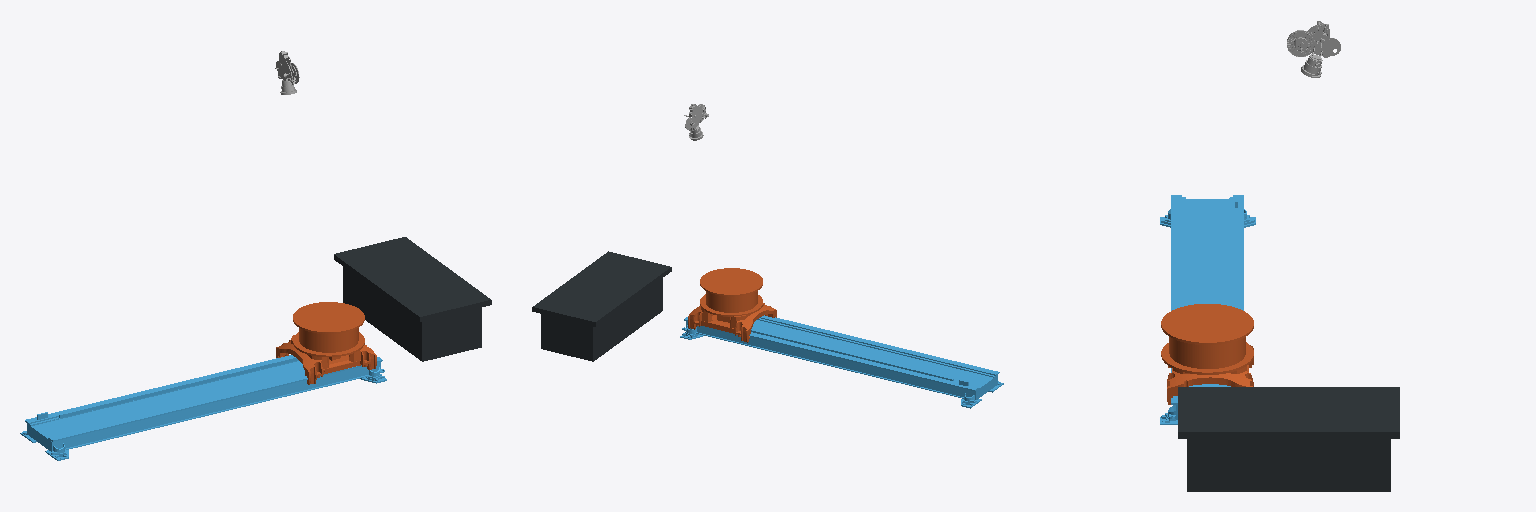
URDF robot description (kr210_atl):
<?xml version="1.0" ?>
<!-- =================================================================================== -->
<!-- |    This document was autogenerated by xacro from kr210_atl.xacro                | -->
<!-- |    EDITING THIS FILE BY HAND IS NOT RECOMMENDED                                 | -->
<!-- =================================================================================== -->
<robot name="kr210_atl" xmlns:xacro="http://wiki.ros.org/xacro">
  <!-- colours based on RAL values given in "FAQ - Colours of robot and robot
       controller", version "KUKA.Tifs | 2010-01-21 |YM| DefaultColorsRobotAndController.doc",
       downloaded 2015-07-18 from
       http://www.kuka.be/main/cservice/faqs/hardware/DefaultColorsRobotAndController.pdf

       all RAL colours converted using http://www.visual-graphics.de/en/customer-care/ral-colours
  -->
  <!-- colours based on RAL values given in "FAQ - Colours of robot and robot
       controller", version "KUKA.Tifs | 2010-01-21 |YM| DefaultColorsRobotAndController.doc",
       downloaded 2015-07-18 from
       http://www.kuka.be/main/cservice/faqs/hardware/DefaultColorsRobotAndController.pdf

       all RAL colours converted using http://www.visual-graphics.de/en/customer-care/ral-colours
  -->
  <!-- Defining variables -->
  <!--0.2-->
  <!-- base link of complete linear track -->
  <link name="kl2000_base_link"/>
  <link name="kl2000_track">
    <visual>
      <origin rpy="0 0 0" xyz="0 0 0"/>
      <geometry>
        <mesh filename="package://kr210_pen_support/meshes/visual/kl2000_track.dae"/>
      </geometry>
    </visual>
    <collision>
      <origin rpy="0 0 0" xyz="0 0 0"/>
      <geometry>
        <mesh filename="package://kr210_pen_support/meshes/collision/kl2000_track_collision.stl"/>
      </geometry>
    </collision>
  </link>
  <link name="kl2000_mobile_base">
    <visual>
      <origin rpy="0 0 0" xyz="0 0 0"/>
      <geometry>
        <mesh filename="package://kr210_pen_support/meshes/visual/kl2000_mobile_base.dae"/>
      </geometry>
    </visual>
    <collision>
      <origin rpy="0 0 0" xyz="0 0 0"/>
      <geometry>
        <mesh filename="package://kr210_pen_support/meshes/collision/kl2000_mobile_base_collision.stl"/>
      </geometry>
    </collision>
  </link>
  <!-- JOINT DEFINITIONS -->
  <joint name="kl2000_base_link_joint" type="fixed">
    <origin rpy="0 0 3.14159265359" xyz="-4.962 0 0.557"/>
    <parent link="kl2000_base_link"/>
    <child link="kl2000_track"/>
  </joint>
  <joint name="kl2000_joint_e1" type="fixed">
    <!-- temporary x translation as we're not using / controlling the track -->
    <origin rpy="0 0 0" xyz="-4.295 0 0"/>
    <parent link="kl2000_track"/>
    <child link="kl2000_mobile_base"/>
    <axis xyz="1 0 0"/>
    <limit effort="0" lower="-4.3" upper="0" velocity="1.96"/>
  </joint>
  <link name="console_base_link">
    <visual>
      <origin rpy="0 0 0" xyz="0 0 0"/>
      <geometry>
        <mesh filename="package://kr210_pen_support/meshes/visual/kl2000_console_h400.dae"/>
      </geometry>
    </visual>
    <collision>
      <origin rpy="0 0 0" xyz="0 0 0"/>
      <geometry>
        <mesh filename="package://kr210_pen_support/meshes/collision/kl2000_console_h400_collision.stl"/>
      </geometry>
    </collision>
  </link>
  <link name="kr210_base_link">
    <visual>
      <origin rpy="0 0 0" xyz="0 0 0"/>
      <geometry>
        <mesh filename="package://kuka_kr210_support/meshes/kr210r2700extra/visual/base_link.dae"/>
      </geometry>
    </visual>
    <collision>
      <origin rpy="0 0 0" xyz="0 0 0"/>
      <geometry>
        <mesh filename="package://kuka_kr210_support/meshes/kr210r2700extra/collision/base_link.stl"/>
      </geometry>
    </collision>
  </link>
  <link name="kr210_link_1">
    <visual>
      <origin rpy="0 0 0" xyz="0 0 0"/>
      <geometry>
        <mesh filename="package://kuka_kr210_support/meshes/kr210r2700extra/visual/link_1.dae"/>
      </geometry>
    </visual>
    <collision>
      <origin rpy="0 0 0" xyz="0 0 0"/>
      <geometry>
        <mesh filename="package://kuka_kr210_support/meshes/kr210r2700extra/collision/link_1.stl"/>
      </geometry>
    </collision>
  </link>
  <link name="kr210_link_2">
    <visual>
      <origin rpy="0 0 0" xyz="0 0 0"/>
      <geometry>
        <mesh filename="package://kuka_kr210_support/meshes/kr210r2700extra/visual/link_2.dae"/>
      </geometry>
    </visual>
    <collision>
      <origin rpy="0 0 0" xyz="0 0 0"/>
      <geometry>
        <mesh filename="package://kuka_kr210_support/meshes/kr210r2700extra/collision/link_2.stl"/>
      </geometry>
    </collision>
  </link>
  <link name="kr210_link_3">
    <visual>
      <origin rpy="0 0 0" xyz="0 0 0"/>
      <geometry>
        <mesh filename="package://kuka_kr210_support/meshes/kr210r2700extra/visual/link_3.dae"/>
      </geometry>
    </visual>
    <collision>
      <origin rpy="0 0 0" xyz="0 0 0"/>
      <geometry>
        <mesh filename="package://kuka_kr210_support/meshes/kr210r2700extra/collision/link_3.stl"/>
      </geometry>
    </collision>
  </link>
  <link name="kr210_link_4">
    <visual>
      <origin rpy="3.14159265359 0 0" xyz="0 0 0"/>
      <geometry>
        <mesh filename="package://kuka_kr210_support/meshes/kr210r2700extra/visual/link_4.dae"/>
      </geometry>
    </visual>
    <collision>
      <origin rpy="3.14159265359 0 0" xyz="0 0 0"/>
      <geometry>
        <mesh filename="package://kuka_kr210_support/meshes/kr210r2700extra/collision/link_4.stl"/>
      </geometry>
    </collision>
  </link>
  <link name="kr210_link_5">
    <visual>
      <origin rpy="0 0 0" xyz="0 0 0"/>
      <geometry>
        <mesh filename="package://kuka_kr210_support/meshes/kr210r2700extra/visual/link_5.dae"/>
      </geometry>
    </visual>
    <collision>
      <origin rpy="0 0 0" xyz="0 0 0"/>
      <geometry>
        <mesh filename="package://kuka_kr210_support/meshes/kr210r2700extra/collision/link_5.stl"/>
      </geometry>
    </collision>
  </link>
  <link name="kr210_link_6">
    <visual>
      <origin rpy="0 0 0" xyz="0 0 0"/>
      <geometry>
        <mesh filename="package://kuka_kr210_support/meshes/kr210r2700extra/visual/link_6.dae"/>
      </geometry>
    </visual>
    <collision>
      <origin rpy="0 0 0" xyz="0 0 0"/>
      <geometry>
        <mesh filename="package://kuka_kr210_support/meshes/kr210r2700extra/collision/link_6.stl"/>
      </geometry>
    </collision>
  </link>
  <!-- This frame corresponds to the $FLANGE coordinate system in KUKA KRC controllers. -->
  <link name="kr210_tool0"/>
  <joint name="kr210_joint_a1" type="revolute">
    <origin rpy="0 0 0" xyz="0 0 0.675"/>
    <parent link="kr210_base_link"/>
    <child link="kr210_link_1"/>
    <axis xyz="0 0 -1"/>
    <limit effort="0" lower="-3.22885911619" upper="3.22885911619" velocity="2.14675497995"/>
  </joint>
  <joint name="kr210_joint_a2" type="revolute">
    <origin rpy="0 0 0" xyz="0.350 0 0"/>
    <parent link="kr210_link_1"/>
    <child link="kr210_link_2"/>
    <axis xyz="0 1 0"/>
    <limit effort="0" lower="-2.44346095279" upper="-0.0872664625997" velocity="2.00712863979"/>
  </joint>
  <joint name="kr210_joint_a3" type="revolute">
    <origin rpy="0 0 0" xyz="1.150 0 0"/>
    <parent link="kr210_link_2"/>
    <child link="kr210_link_3"/>
    <axis xyz="0 1 0"/>
    <limit effort="0" lower="-2.09439510239" upper="2.70526034059" velocity="1.95476876223"/>
  </joint>
  <joint name="kr210_joint_a4" type="revolute">
    <origin rpy="0 0 0" xyz="0 0 -0.041"/>
    <parent link="kr210_link_3"/>
    <child link="kr210_link_4"/>
    <axis xyz="-1 0 0"/>
    <limit effort="0" lower="-6.10865238198" upper="6.10865238198" velocity="3.12413936107"/>
  </joint>
  <joint name="kr210_joint_a5" type="revolute">
    <origin rpy="0 0 0" xyz="1.200 0 0"/>
    <parent link="kr210_link_4"/>
    <child link="kr210_link_5"/>
    <axis xyz="0 1 0"/>
    <limit effort="0" lower="-2.18166156499" upper="2.18166156499" velocity="3.00196631343"/>
  </joint>
  <joint name="kr210_joint_a6" type="revolute">
    <origin rpy="0 0 0" xyz="0.215 0 0"/>
    <parent link="kr210_link_5"/>
    <child link="kr210_link_6"/>
    <axis xyz="-1 0 0"/>
    <limit effort="0" lower="-6.10865238198" upper="6.10865238198" velocity="3.82227106187"/>
  </joint>
  <joint name="kr210_joint_a6-tool0" type="fixed">
    <parent link="kr210_link_6"/>
    <child link="kr210_tool0"/>
    <origin rpy="0 1.57079632679 0" xyz="0 0 0"/>
  </joint>
  <!-- ROS base_link to KUKA $ROBROOT coordinate system transform -->
  <link name="kr210_base"/>
  <joint name="kr210_base_link-base" type="fixed">
    <origin rpy="0 0 0" xyz="0 0 0"/>
    <parent link="kr210_base_link"/>
    <child link="kr210_base"/>
  </joint>
  <!-- link name="${prefix}balancer">
      <visual>
        <origin xyz="-0.092 0 0" rpy="0 0 0"/>
        <geometry>
          <mesh filename="package://kuka_kr210_support/meshes/kr210r2700extra/visual/balancer.dae"/>
        </geometry>
      </visual>
      <collision>
        <origin xyz="-0.092 0 0" rpy="0 0 0"/>
        <geometry>
          <mesh filename="package://kuka_kr210_support/meshes/kr210r2700extra/collision/balancer.stl"/>
        </geometry>
      </collision>
    </link>
    <link name="${prefix}piston">
      <visual>
        <origin xyz="0 0 0" rpy="0 0 0"/>
        <geometry>
          <mesh filename="package://kuka_kr210_support/meshes/kr210r2700extra/visual/piston.dae"/>
        </geometry>
      </visual>
      <collision>
        <origin xyz="0 0 0" rpy="0 0 0"/>
        <geometry>
          <mesh filename="package://kuka_kr210_support/meshes/kr210r2700extra/collision/piston.stl"/>
        </geometry>
      </collision>
    </link>


    <joint name="${prefix}balancer_joint" type="continuous">
      <origin xyz="-0.450 0 -0.067" rpy="0 0 0"/>
      <parent link="${prefix}link_1"/>
      <child link="${prefix}balancer"/>
      <axis xyz="0 1 0"/>
      <mimic joint="${prefix}joint_a2" multiplier="-0.22" offset="${-22 * DEG2RAD}" />
    </joint>
    <joint name="${prefix}piston_joint" type="continuous">
      <origin xyz="-0.01 0 0.2" rpy="0 0 0"/>
      <parent link="${prefix}link_2"/>
      <child link="${prefix}piston"/>
      <axis xyz="0 1 0"/>
      <mimic joint="${prefix}joint_a2" multiplier="-1.25" offset="${-22 * DEG2RAD}" />
    </joint -->
  <!-- LINK DEFINITIONS -->
  <link name="table_base_link">
    <visual>
      <origin rpy="0 0 0" xyz="0 0 0"/>
      <geometry>
        <box size="1.0 2.3 0.695"/>
      </geometry>
      <material name="">
        <color rgba="0.219607843137 0.243137254902 0.258823529412 1.0"/>
      </material>
    </visual>
    <collision>
      <origin rpy="0 0 0" xyz="0 0 0"/>
      <geometry>
        <box size="1.0 2.3 0.695"/>
      </geometry>
    </collision>
  </link>
  <!-- Geometry model table top -->
  <link name="table_table_top">
    <visual>
      <origin rpy="0 0 0" xyz="1.25 -0.0425 0.6"/>
      <geometry>
        <box size="2.5 0.085 1.2"/>
      </geometry>
      <material name="">
        <color rgba="0.219607843137 0.243137254902 0.258823529412 1.0"/>
      </material>
    </visual>
    <collision>
      <origin rpy="0 0 0" xyz="1.25 -0.0425 0.6"/>
      <geometry>
        <box size="2.5 0.085 1.2"/>
      </geometry>
    </collision>
  </link>
  <!-- CAD model table top -->
  <!-- 		<link name="${prefix}table_top">	
      <visual>
      	<origin xyz="0 0 0" rpy="0 0 0"/>
        <geometry>
          <mesh filename="package://atomic_cells/meshes/visual/forster_welding_tabletop.dae" />
        </geometry>        
      </visual>
      <collision>
        <origin xyz="0 0 0" rpy="0 0 0"/>
        <geometry>
          <mesh filename="package://atomic_cells/meshes/collision/forster_welding_tabletop_collision.stl" />
        </geometry>       
      </collision>
    </link> -->
  <!-- JOINT DEFINITIONS -->
  <joint name="table_base_link_joint" type="fixed">
    <origin rpy="1.57079632679 0 1.57079632679" xyz="-0.6 -1.25 0.4325"/>
    <parent link="table_base_link"/>
    <child link="table_table_top"/>
  </joint>
  <link name="atl_tool_base_link">
    <visual>
      <origin rpy="-3.14159265359 0 0" xyz="0 0 0.1988"/>
      <geometry>
        <mesh filename="package://kr210_eef_support/meshes/visual/atl_tool.dae" scale="0.001 0.001 0.001"/>
      </geometry>
    </visual>
    <collision>
      <origin rpy="1.57079632679 3.14159265359 0" xyz="-0.260 0.172 0.1988"/>
      <geometry>
        <mesh filename="package://kr210_eef_support/meshes/collision/atl_tool.stl" scale="0.001 0.001 0.001"/>
      </geometry>
    </collision>
    <visual>
      <origin rpy="-1.57079632679 0 0" xyz="0 0 0.1908"/>
      <geometry>
        <mesh filename="package://kr210_eef_support/meshes/visual/kuka_quickrelease.dae" scale="0.001 0.001 0.001"/>
      </geometry>
    </visual>
    <collision>
      <origin rpy="0 0 0" xyz="0 0 0"/>
      <geometry>
        <mesh filename="package://kr210_eef_support/meshes/collision/kuka_quickrelease.stl" scale="0.001 0.001 0.001"/>
      </geometry>
    </collision>
  </link>
  <link name="atl_tool_tool_tip"/>
  <joint name="atl_tool_tool_tip_to_atl_tool_base_link" type="fixed">
    <parent link="atl_tool_base_link"/>
    <child link="atl_tool_tool_tip"/>
    <origin rpy="0 0 0" xyz="0 0.00185 0.6353"/>
  </joint>
  <!-- JOINTS -->
  <!-- Console to Linear track -->
  <joint name="console_base_link_to_kl2000_mobile_base" type="fixed">
    <parent link="kl2000_mobile_base"/>
    <child link="console_base_link"/>
    <origin rpy="0 0 0" xyz="0 0 0"/>
  </joint>
  <!-- Robot to console  -->
  <joint name="kr210_base_link_to_console_base_link" type="fixed">
    <parent link="console_base_link"/>
    <child link="kr210_base_link"/>
    <origin rpy="0 0 -1.57079632679" xyz="0 0 0.4"/>
  </joint>
  <!-- Welding table to linear track -->
  <joint name="table_base_link_to_kl2000_mobile_base" type="fixed">
    <parent link="kl2000_base_link"/>
    <child link="table_base_link"/>
    <!-- <origin xyz="-1.264 1.719 ${(table_height - table_top_thickness)/2}" rpy="0 0 ${-pi/2}"/>        -->
    <origin rpy="0 0 0" xyz="1.264 0.919 0.3475"/>
  </joint>
  <!-- End effector to robot -->
  <joint name="atl_tool_base_link_to_kr210_tool0" type="fixed">
    <parent link="kr210_tool0"/>
    <child link="atl_tool_base_link"/>
    <origin rpy="0 0 0" xyz="0 0 0"/>
  </joint>
</robot>

--- Render facts (derived) ---
The picture shows the robot from 3 angles, left to right: view 1: azimuth 30°, elevation 25°; view 2: azimuth 150°, elevation 25°; view 3: azimuth 270°, elevation 25°; orthographic projection.
Model kr210_atl with 17 links and 16 joints (6 revolute, 10 fixed), rooted at kl2000_base_link, posed joints at zero except 1 at the middle of their limits (kr210_joint_a2 = -1.27).
Visible links, largest first — view 1: kl2000_track, table_table_top, table_base_link, console_base_link, kl2000_mobile_base, atl_tool_base_link; view 2: kl2000_track, table_table_top, table_base_link, console_base_link, kl2000_mobile_base, atl_tool_base_link; view 3: table_table_top, table_base_link, kl2000_track, console_base_link, atl_tool_base_link, kl2000_mobile_base.
Boxes of the visible links, <box> form: kl2000_track: <box>20,355,386,460</box>; table_table_top: <box>334,237,491,321</box>; table_base_link: <box>343,267,481,361</box>; console_base_link: <box>293,302,364,356</box>; kl2000_mobile_base: <box>276,335,376,384</box>; atl_tool_base_link: <box>275,51,299,94</box>; kl2000_track: <box>680,315,1003,408</box>; table_table_top: <box>532,251,671,326</box>; table_base_link: <box>541,278,662,361</box>; console_base_link: <box>700,268,762,316</box>; kl2000_mobile_base: <box>688,303,776,342</box>; atl_tool_base_link: <box>684,104,708,140</box>; table_table_top: <box>1178,387,1399,438</box>; table_base_link: <box>1187,439,1390,491</box>; kl2000_track: <box>1160,195,1255,424</box>; console_base_link: <box>1161,304,1253,374</box>; atl_tool_base_link: <box>1287,21,1340,77</box>; kl2000_mobile_base: <box>1167,345,1253,404</box>.
Bounding box of the posed robot: 7.42 × 2.71 × 4.7 m (x, y, z).
5 mesh visuals loaded from 12 distinct referenced files (5 Collada DAE); not drawn: 7 (reference not matched to a file when rendering).
